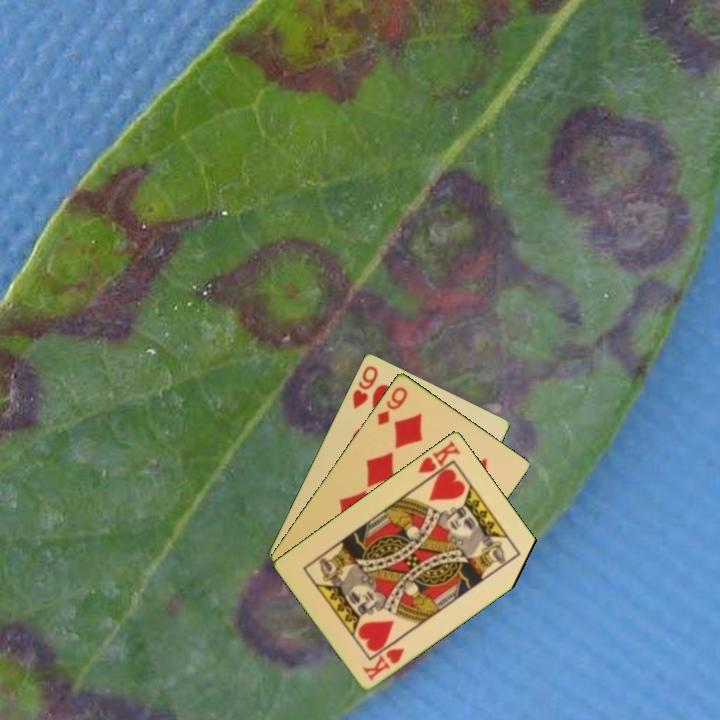9d: (374, 382, 411, 428)
9h: (349, 361, 381, 411)
Kh: (414, 436, 463, 485), (359, 644, 408, 683)
